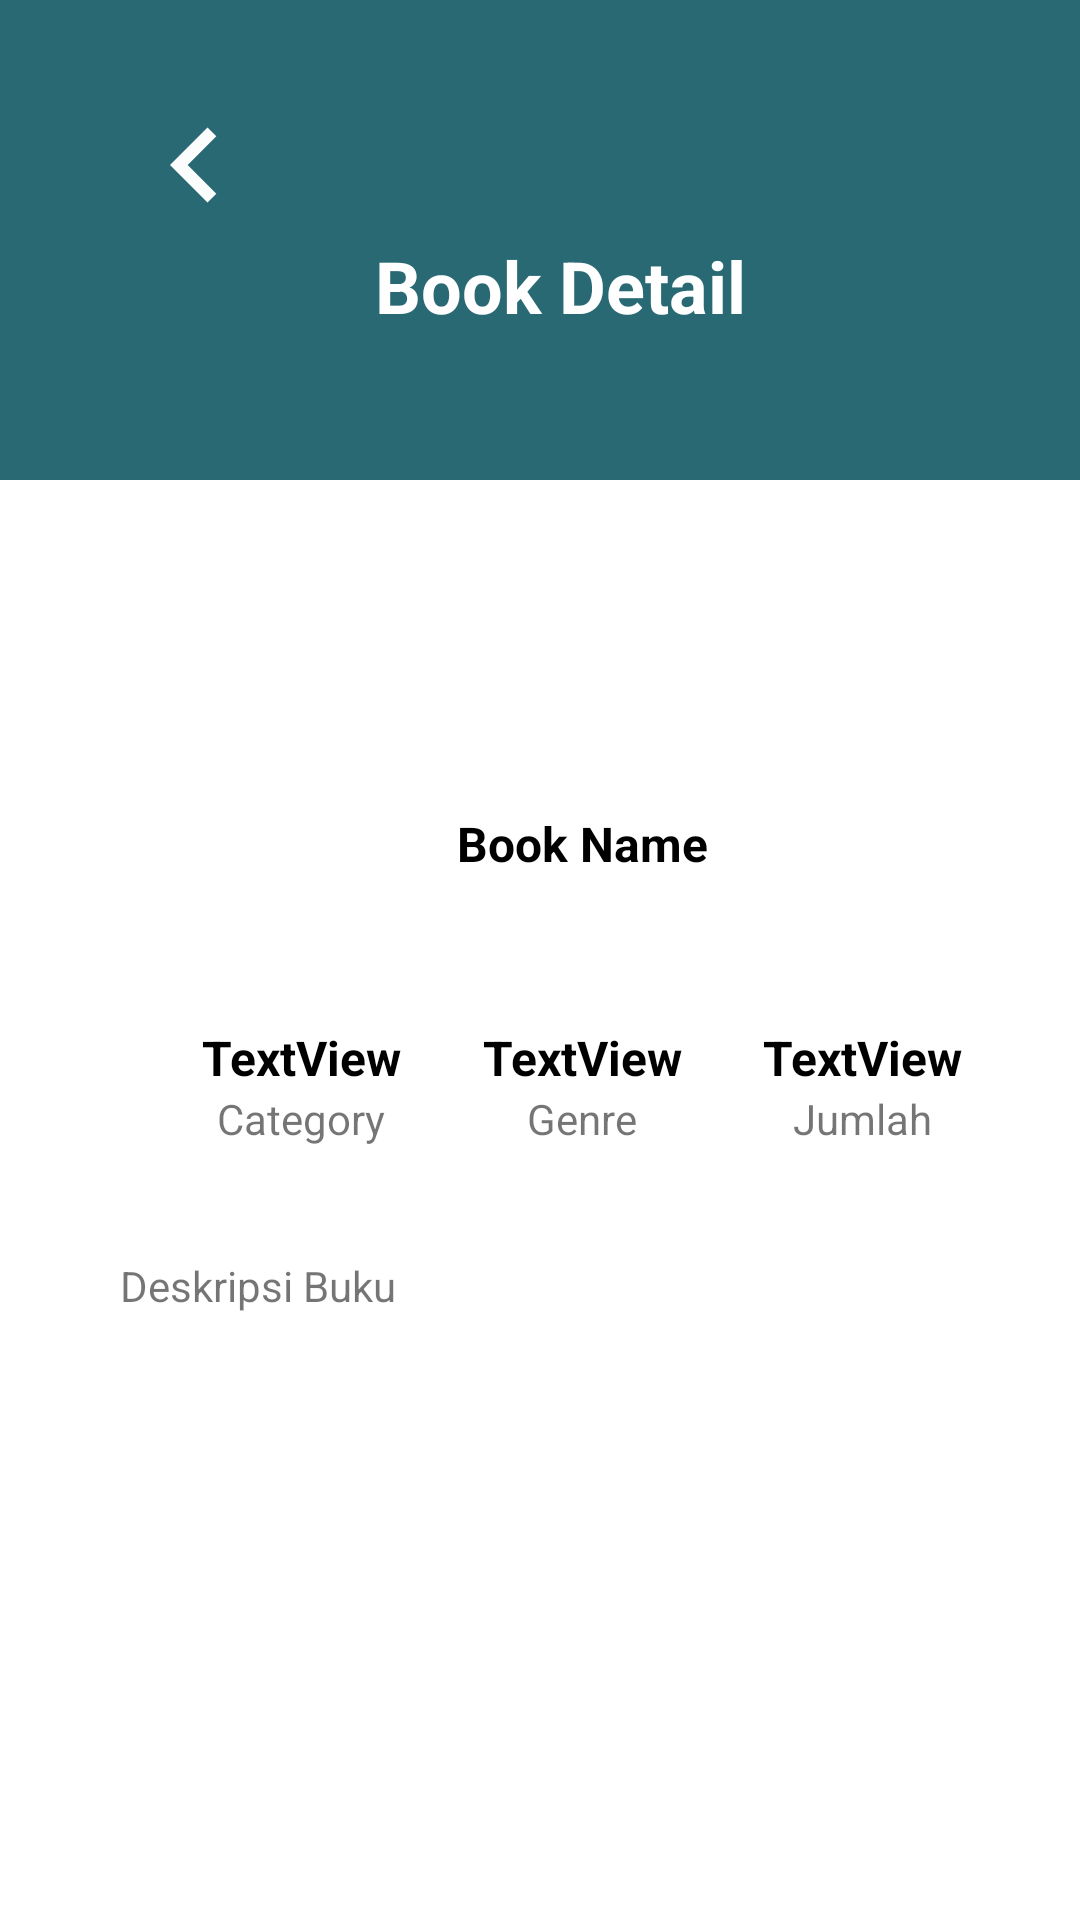

Icons on this 1080x1920 Android screen, each with its box as {"left": x1, "top": y1, "right": x2, "bottom": y2}:
back: {"left": 170, "top": 127, "right": 216, "bottom": 203}
